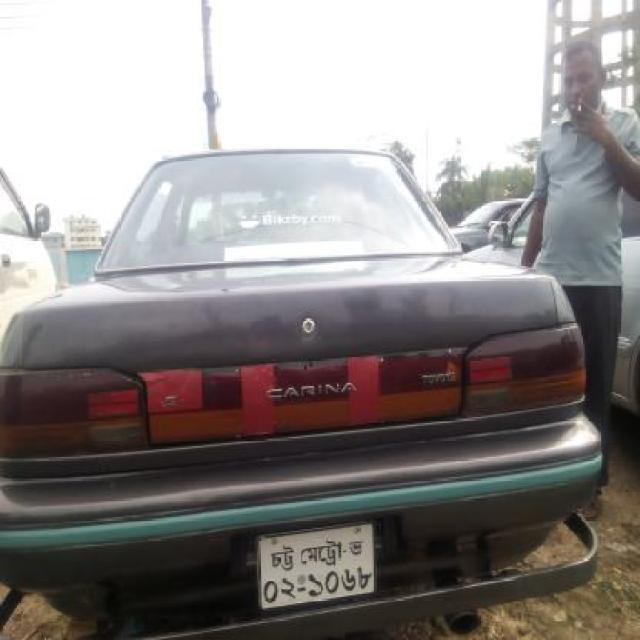numberplate: (254, 520, 377, 611)
